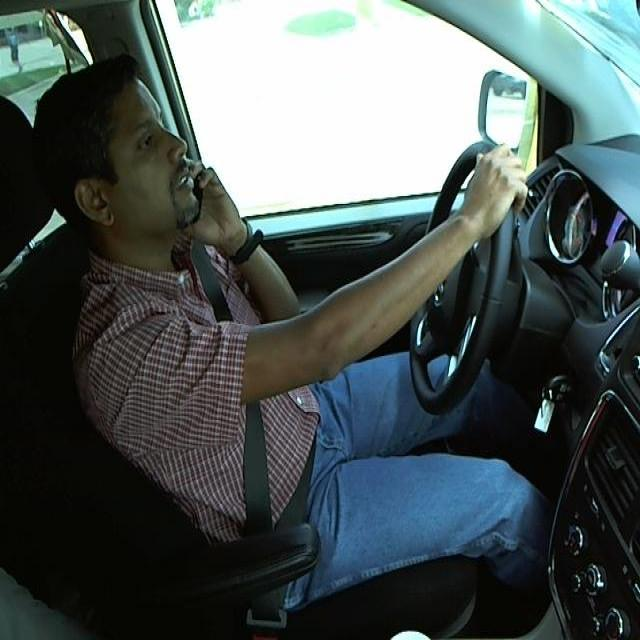using_phone: (21, 32, 254, 301)
